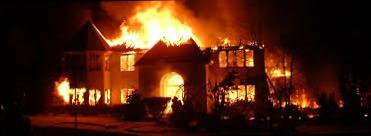Fire: (114, 4, 206, 50), (56, 82, 103, 109)
Smoke: (186, 0, 259, 50)
